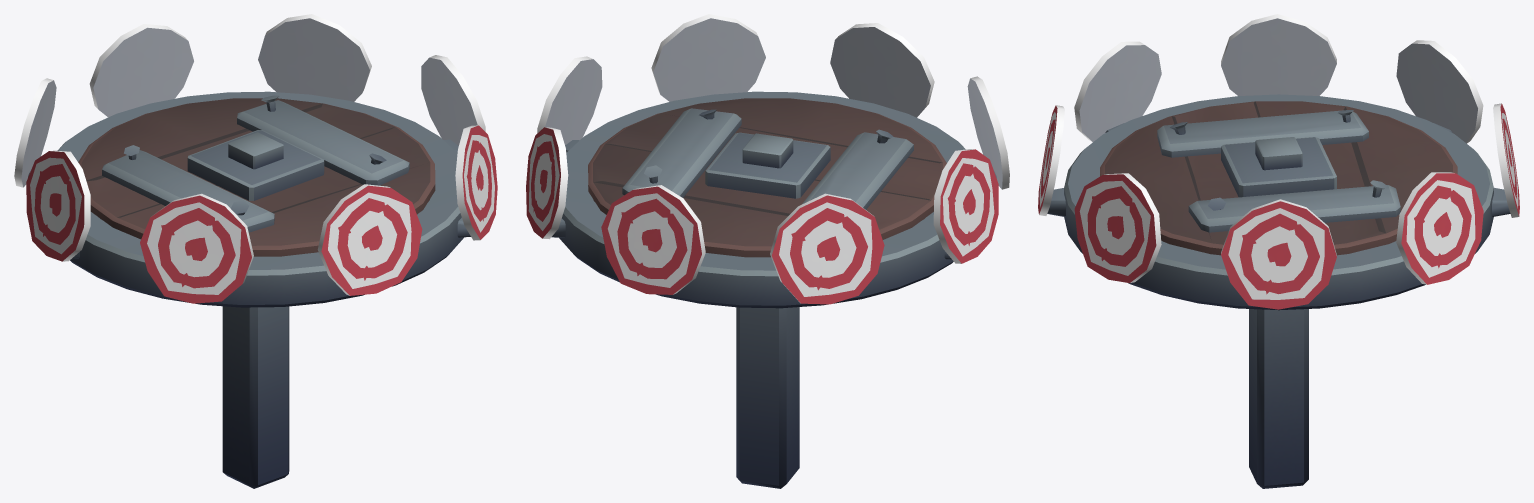
File: WheelX8.fbx
3 renders of one model, left to right at view 1: azimuth 30°, elevation 25°; view 2: azimuth 150°, elevation 25°; view 3: azimuth 270°, elevation 25°, orthographic.
Parts seen in each view (by area): view 1: WheelX8; view 2: WheelX8; view 3: WheelX8.
Boxes of the visible parts, x1,y1,x2,y2 form: WheelX8: (14,14,497,488); WheelX8: (526,14,1009,488); WheelX8: (1038,14,1519,488).
Size of the model in its own units: 104 by 88.23 by 104.
